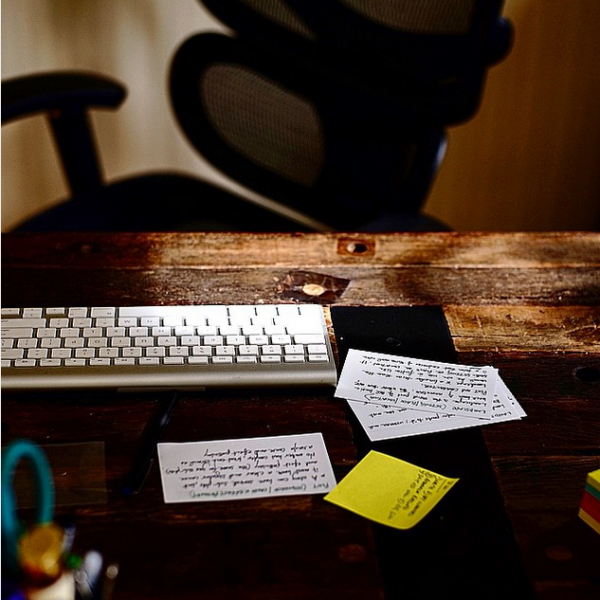Note: (335, 348, 525, 441), (156, 440, 336, 498), (330, 449, 458, 529)
